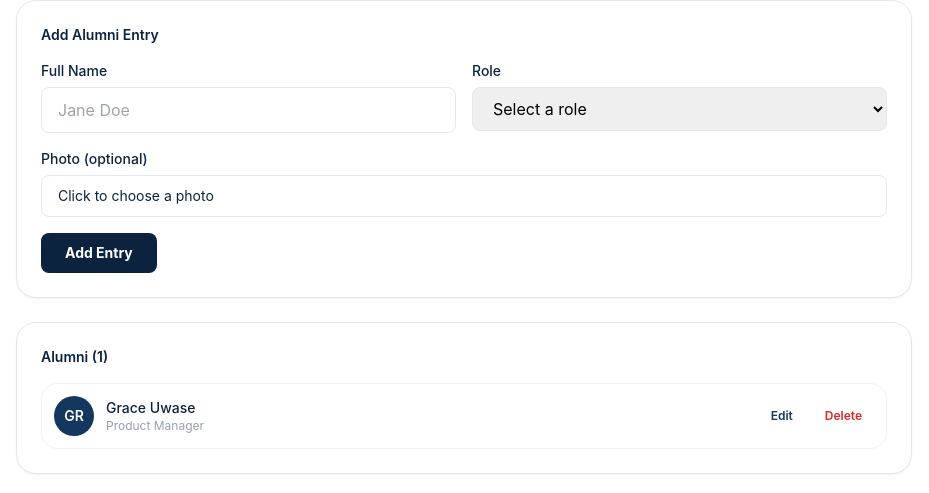
AlumniManagement › deletes an alumni entry after confirmation
Expected: the text "Grace Uwase" is shown, [106, 399, 196, 416]
Click the button "Delete" at [843, 416], box [813, 402, 874, 430]
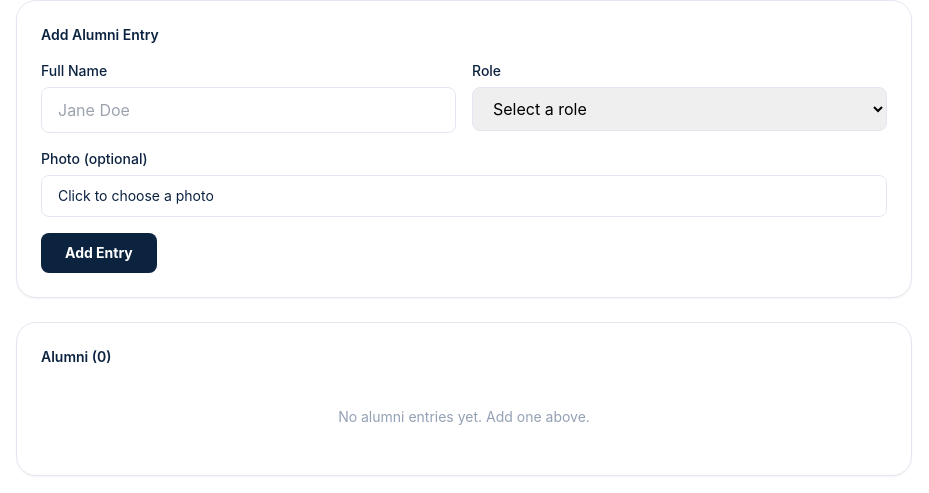
Now the text "No alumni entries yet. Add one above." is shown, box [338, 408, 590, 425]
